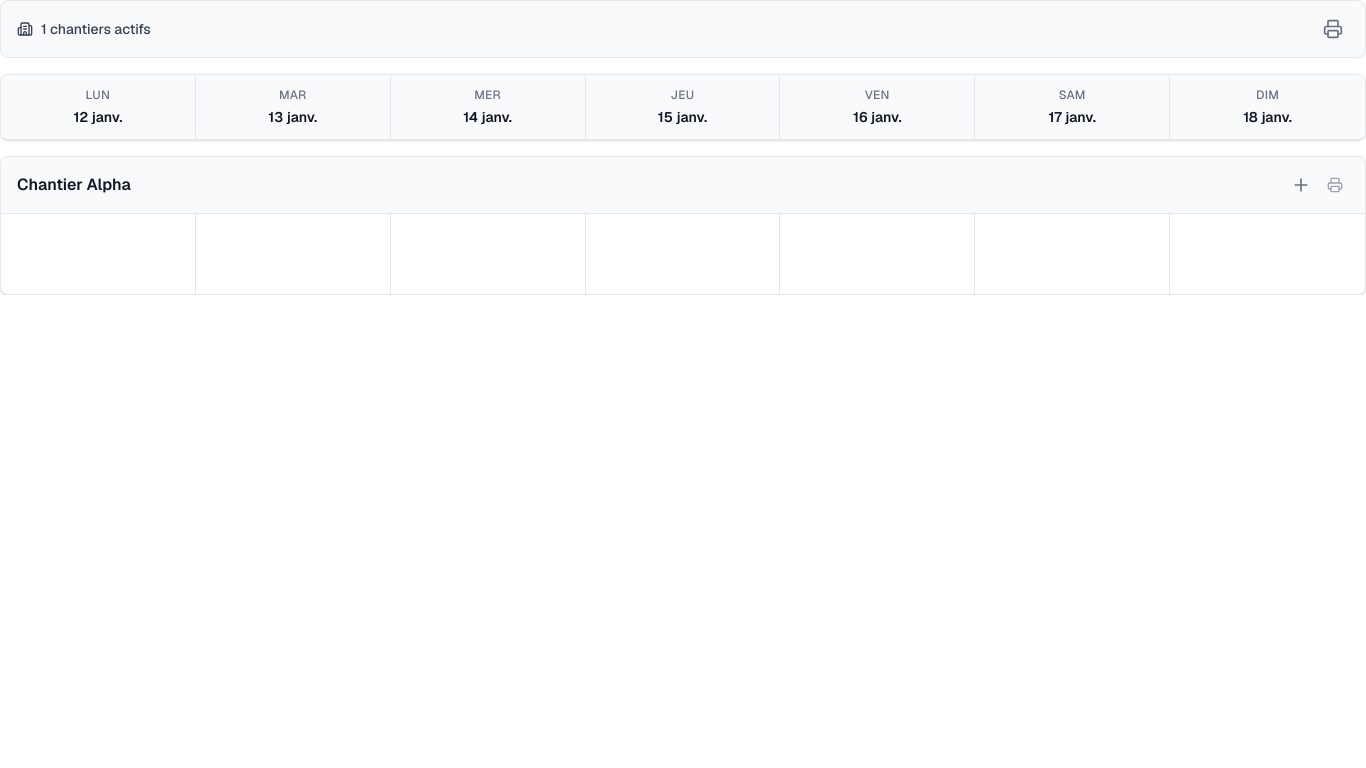
Test case: VueChantierClient - Bouton "+" multi-ouvriers › affiche le nom du chantier dans le titre du modal
What coordinates should you click on to do the following:
click the button named "affecter des ouvriers au chantier chantier alpha"
I would click on:
 (1301, 185)
Its box is [1285,169,1317,201].
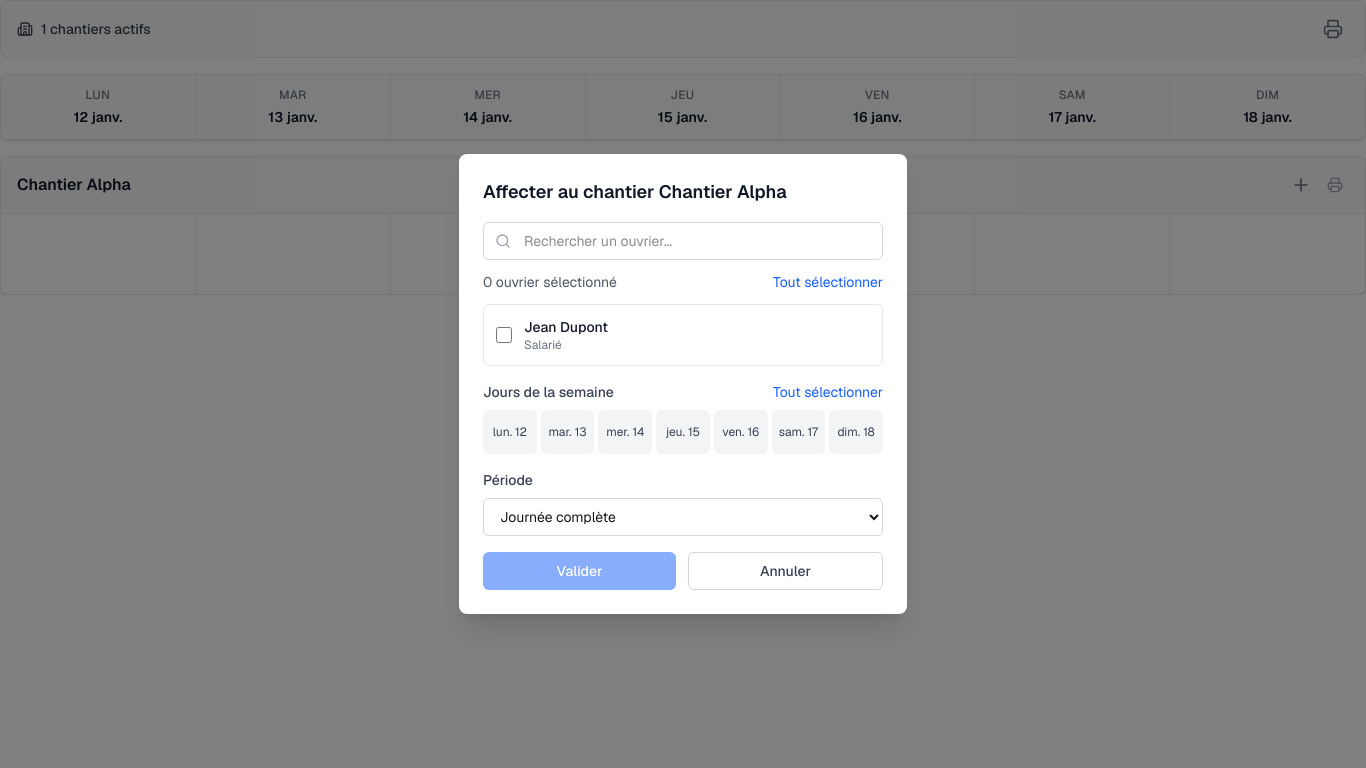
Expected: the heading "Affecter au chantier Chantier Alpha" is shown, [483,180,787,203]
